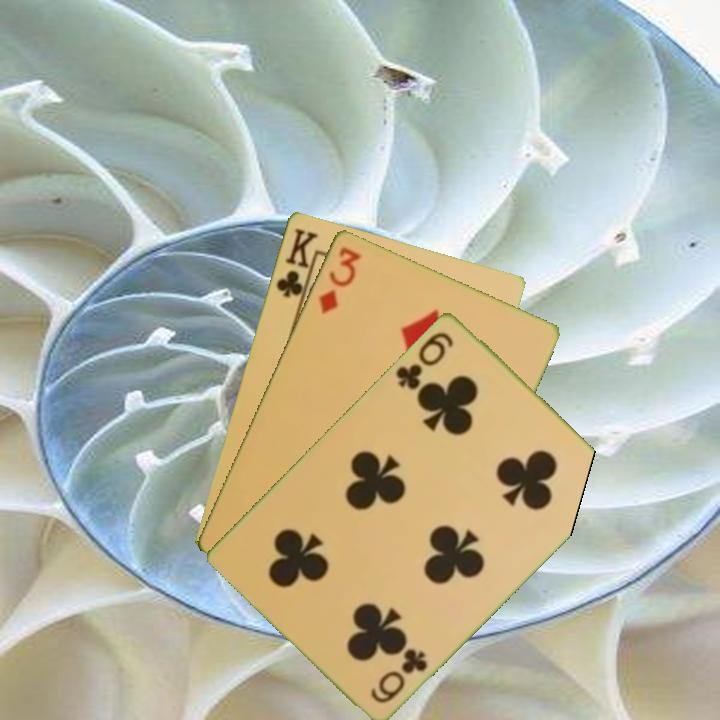3d: (314, 242, 363, 317)
6c: (392, 328, 456, 393), (367, 644, 431, 706)
Kc: (272, 224, 320, 309)
